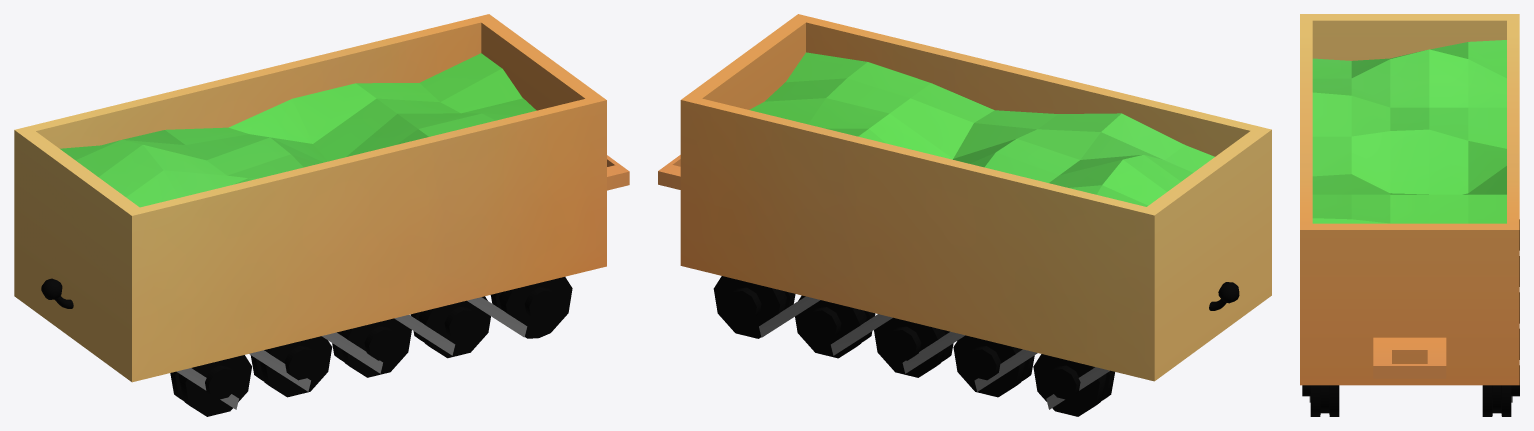
Rendered from Train_02.fbx.
3 renders of one model, left to right at view 1: azimuth 30°, elevation 25°; view 2: azimuth 150°, elevation 25°; view 3: azimuth 270°, elevation 25°, orthographic. The views are drawn at different scales.
Visible parts, largest first — view 1: Train_02; view 2: Train_02; view 3: Train_02.
Part boxes in pixels (x1,y1,x2,y2): Train_02: [14, 14, 629, 416]; Train_02: [658, 14, 1271, 416]; Train_02: [1300, 14, 1519, 416].
Bounding box in the file's own units: 796 × 307 × 288.
1 material, 1 textured.
